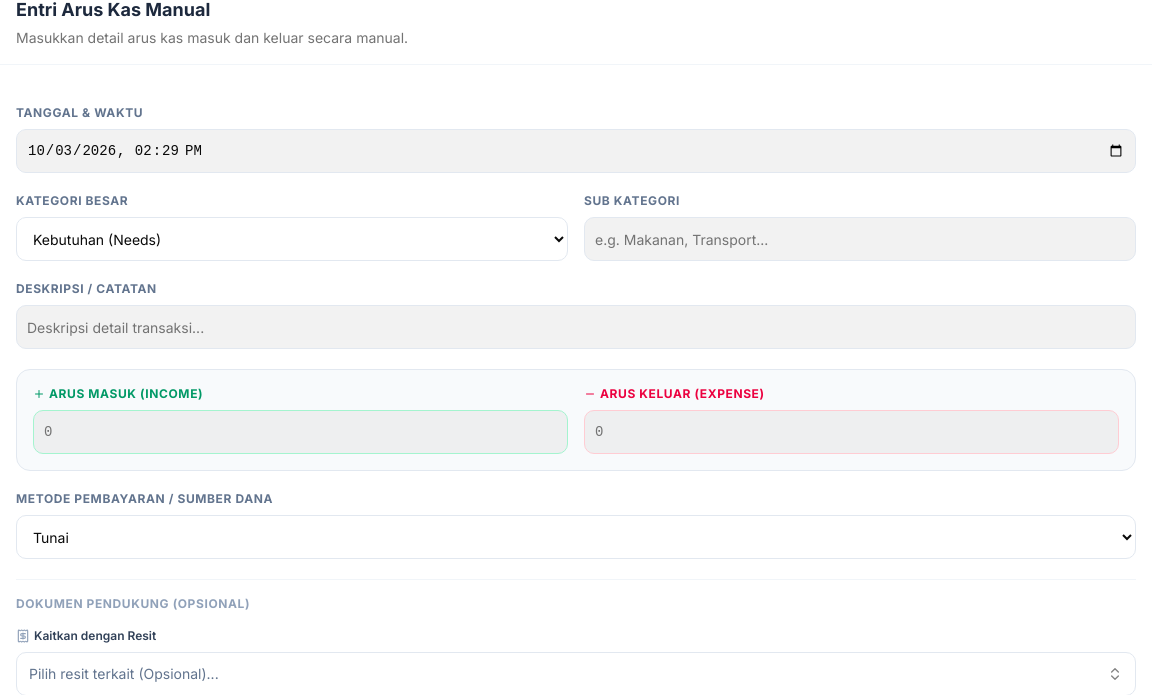
CashFlowForm Component › shows unexpected error message if action throws
Type "50000" into the number field labelled "Arus Masuk (Income)". click: (300, 432)
box: [33,410,568,454]
(page scrolled)
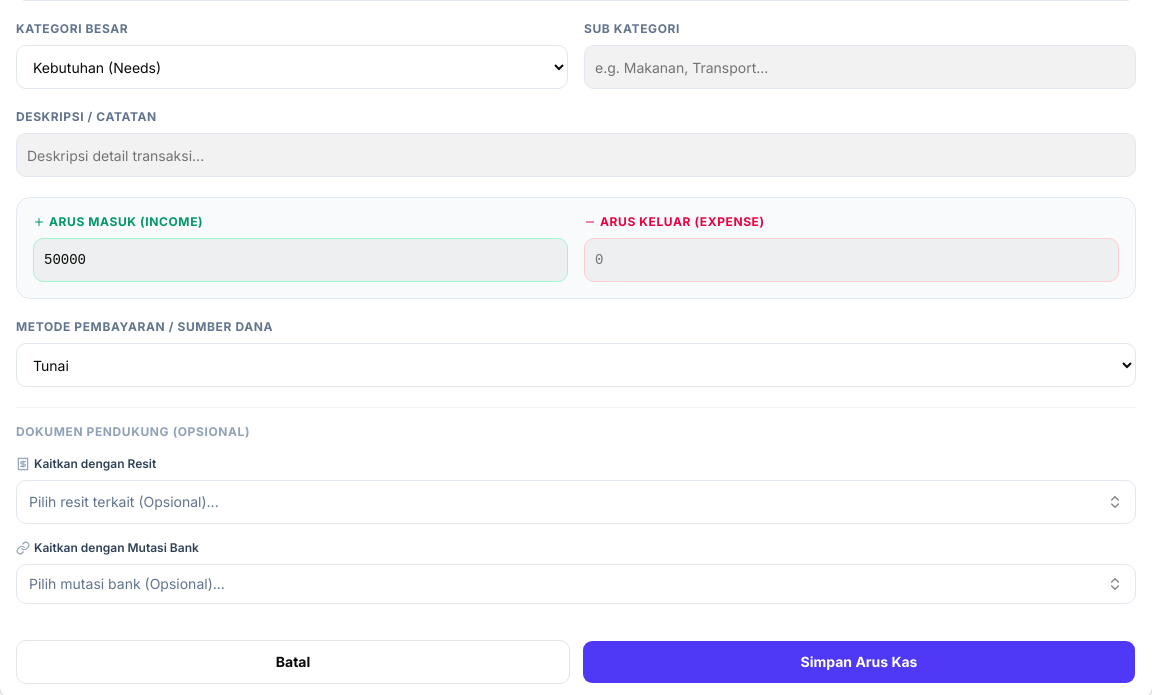
Click the button "Simpan Arus Kas". click: (859, 662)
box: [582,640,1136,684]
(page scrolled)
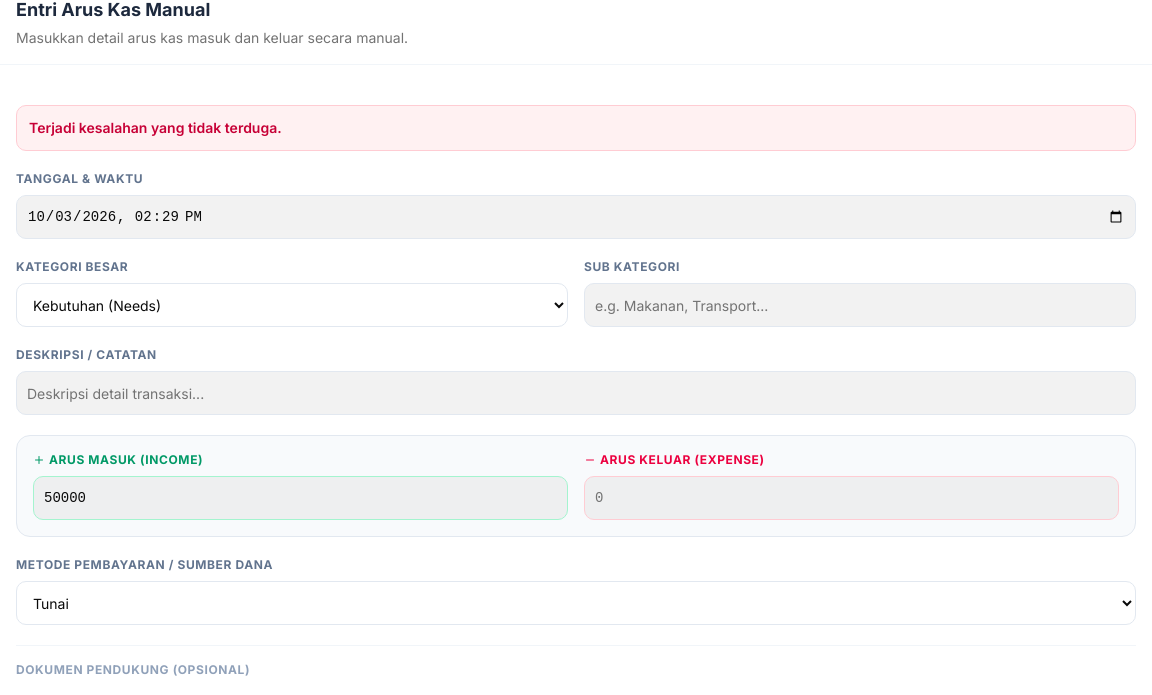
Check: the text "Terjadi kesalahan yang tidak terduga." is shown, box [16,105,1136,151]
